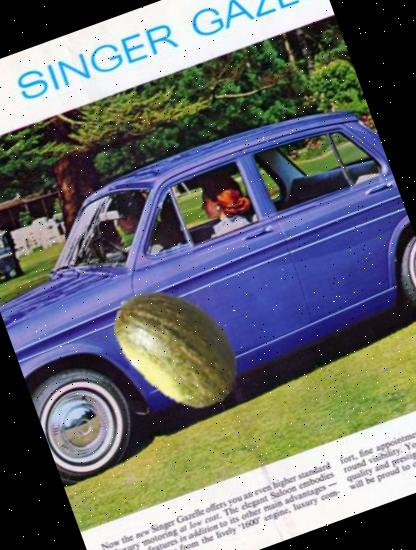Melon: (86, 255, 267, 436)
